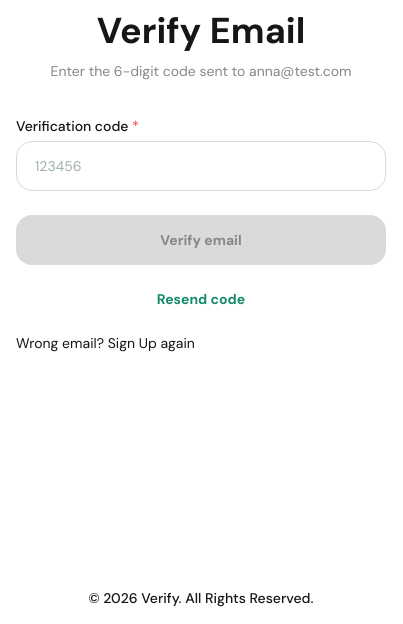
Test: VerifyEmailPage › resends verification code and shows success message
The image size is (403, 624).
Click the button "Resend code".
click(201, 299)  # box [16,289,386,309]
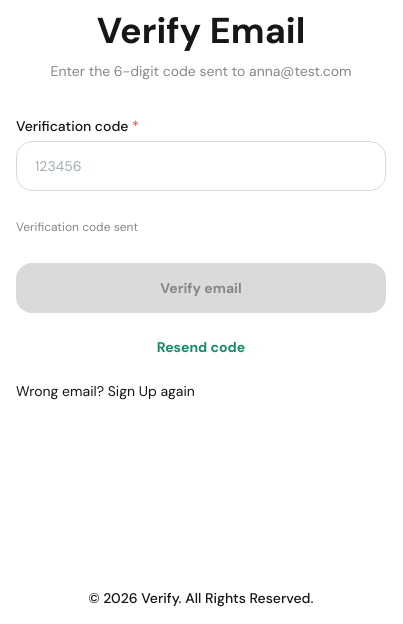
Expected: the text "Verification code sent" is shown, [16,219,138,235]
